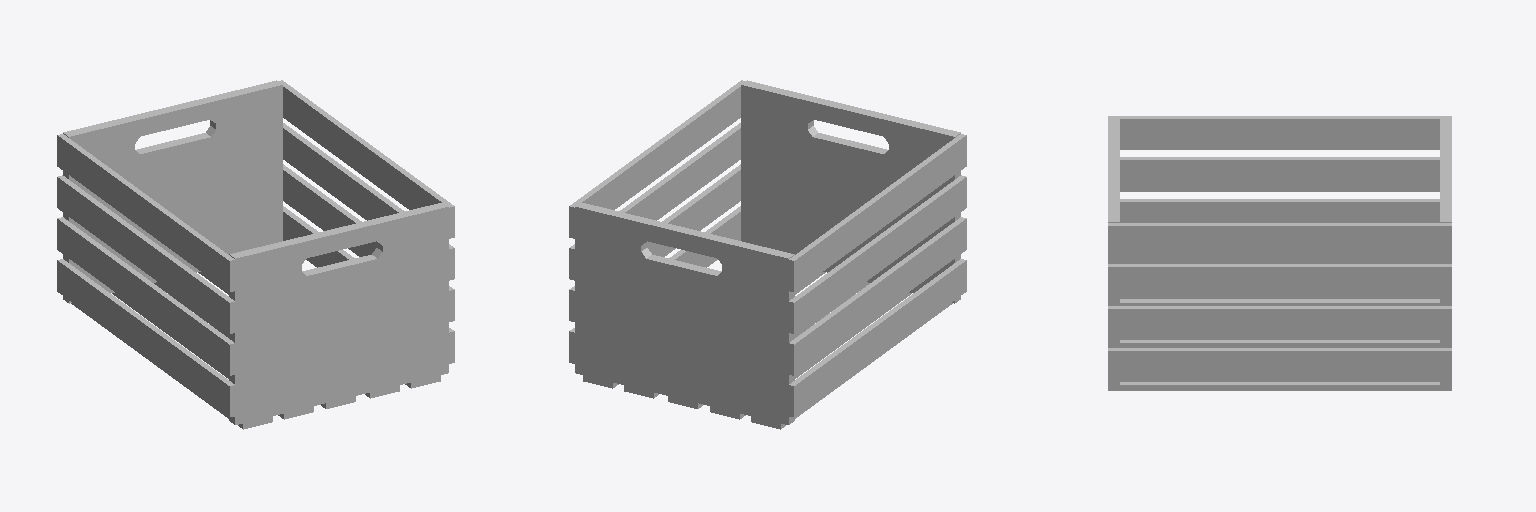
File: Wooden.obj
The picture shows the model from 3 angles: view 1: azimuth 30°, elevation 25°; view 2: azimuth 150°, elevation 25°; view 3: azimuth 270°, elevation 25°; orthographic projection.
Parts seen in each view (by area): view 1: Plane.003_Plane.005; view 2: Plane.003_Plane.005; view 3: Plane.003_Plane.005.
Boxes of the visible parts, <box> form: Plane.003_Plane.005: <box>57,80,454,429</box>; Plane.003_Plane.005: <box>569,80,966,429</box>; Plane.003_Plane.005: <box>1108,116,1451,390</box>.
Size of the model in its own units: 1.41 by 1.04 by 1.87.